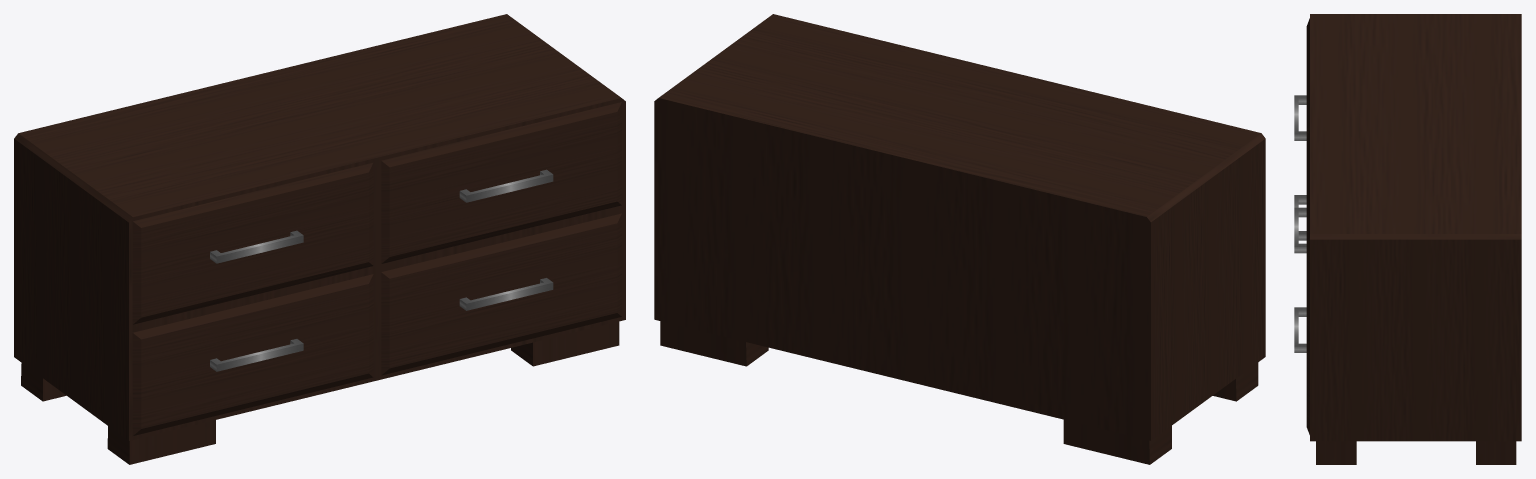
File: Dresser_A.FBX
The picture shows the model from 3 angles, left to right: view 1: azimuth 30°, elevation 25°; view 2: azimuth 150°, elevation 25°; view 3: azimuth 270°, elevation 25°; orthographic projection. The views are drawn at different scales.
Parts seen in each view (by area): view 1: Dresser; view 2: Dresser; view 3: Dresser.
Boxes of the visible parts, box(x1,y1,x2,y2) form: Dresser: box(14, 14, 625, 464); Dresser: box(654, 14, 1265, 464); Dresser: box(1294, 14, 1521, 464).
Bounding box in the file's own units: 350 × 168 × 150.
